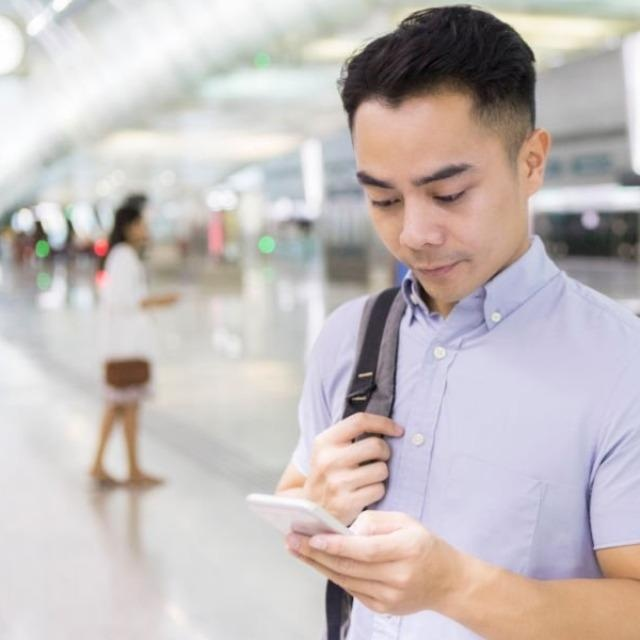Sin_Casco_Mascarrilla: (328, 6, 546, 299)
Sin_Chaleco: (311, 273, 640, 640)
